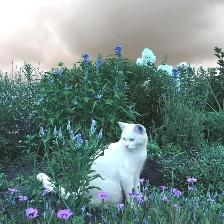kedo: (37, 121, 148, 208)
